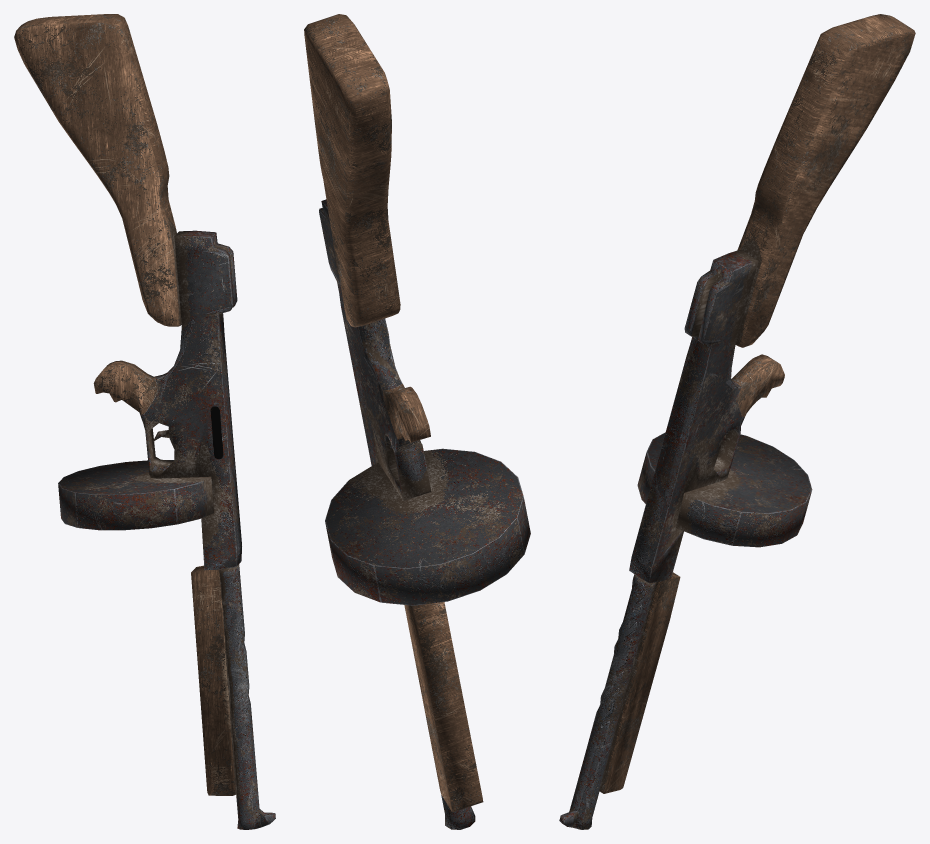
Rendered from Anim_idle_ametralladora_objetos.0043.obj.
3 views of the same model, side by side, from view 1: azimuth 30°, elevation 25°; view 2: azimuth 150°, elevation 25°; view 3: azimuth 270°, elevation 25° (orthographic). The views are drawn at different scales.
Visible parts, largest first — view 1: Ametralladora1; view 2: Ametralladora1; view 3: Ametralladora1.
Boxes of the visible parts, left/top/right/bottom form: Ametralladora1: left=14, top=14, right=275, bottom=829; Ametralladora1: left=304, top=14, right=530, bottom=829; Ametralladora1: left=559, top=14, right=915, bottom=829.
Size of the model in its own units: 1.32 by 5.81 by 2.4.
